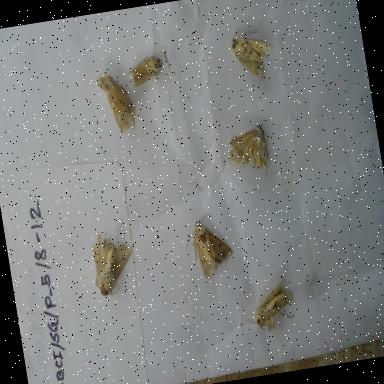abw: (83, 222, 142, 302), (178, 209, 239, 286), (238, 271, 303, 339), (219, 119, 280, 190), (92, 64, 142, 142), (226, 21, 282, 89), (120, 47, 171, 96)
